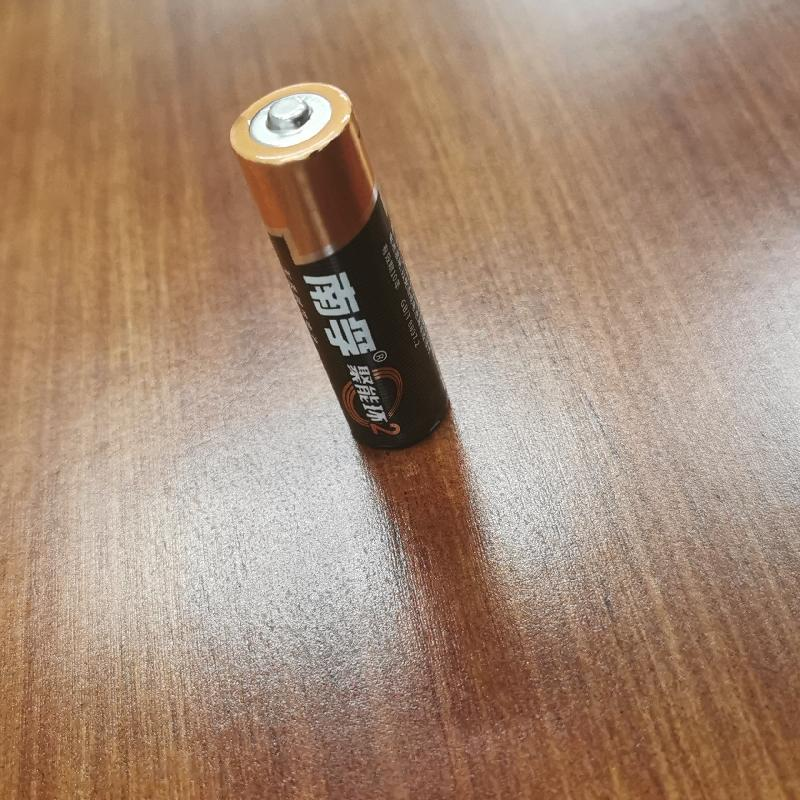battery: (222, 73, 457, 455)
